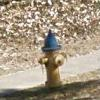Hydrant: (32, 24, 72, 92)
